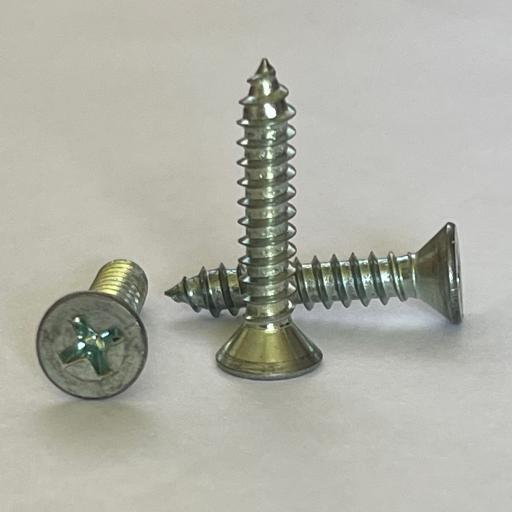Phillips: (36, 289, 150, 405)
